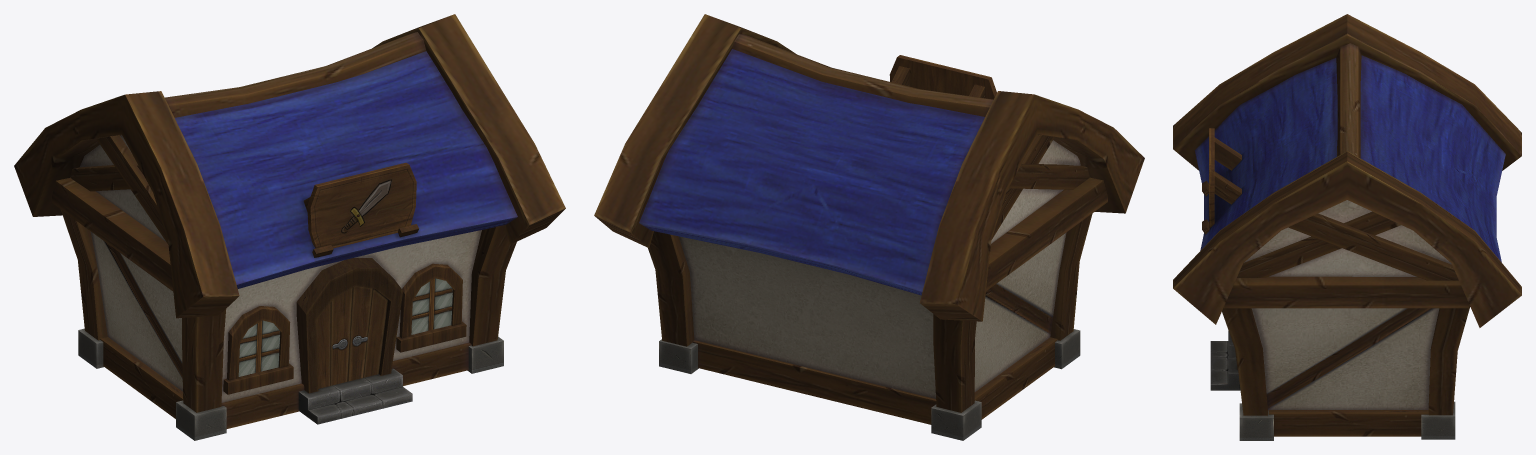
The model's file is modelBuilding_WeaponShop.fbx.
3 views of the same model, side by side, from view 1: azimuth 30°, elevation 25°; view 2: azimuth 150°, elevation 25°; view 3: azimuth 270°, elevation 25° (orthographic). The views are drawn at different scales.
Parts seen in each view (by area): view 1: modelBuilding_WeaponShop; view 2: modelBuilding_WeaponShop; view 3: modelBuilding_WeaponShop.
Part boxes in pixels (<box>): modelBuilding_WeaponShop: <box>14,14,565,440</box>; modelBuilding_WeaponShop: <box>594,14,1144,440</box>; modelBuilding_WeaponShop: <box>1173,14,1521,440</box>.
Size of the model in its own units: 88.44 by 70.03 by 78.24.
